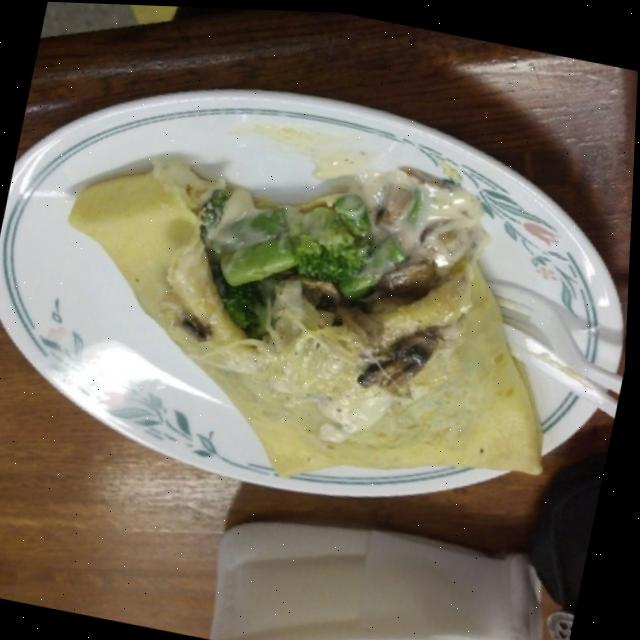蛋糕甜品: (0, 34, 639, 551)
